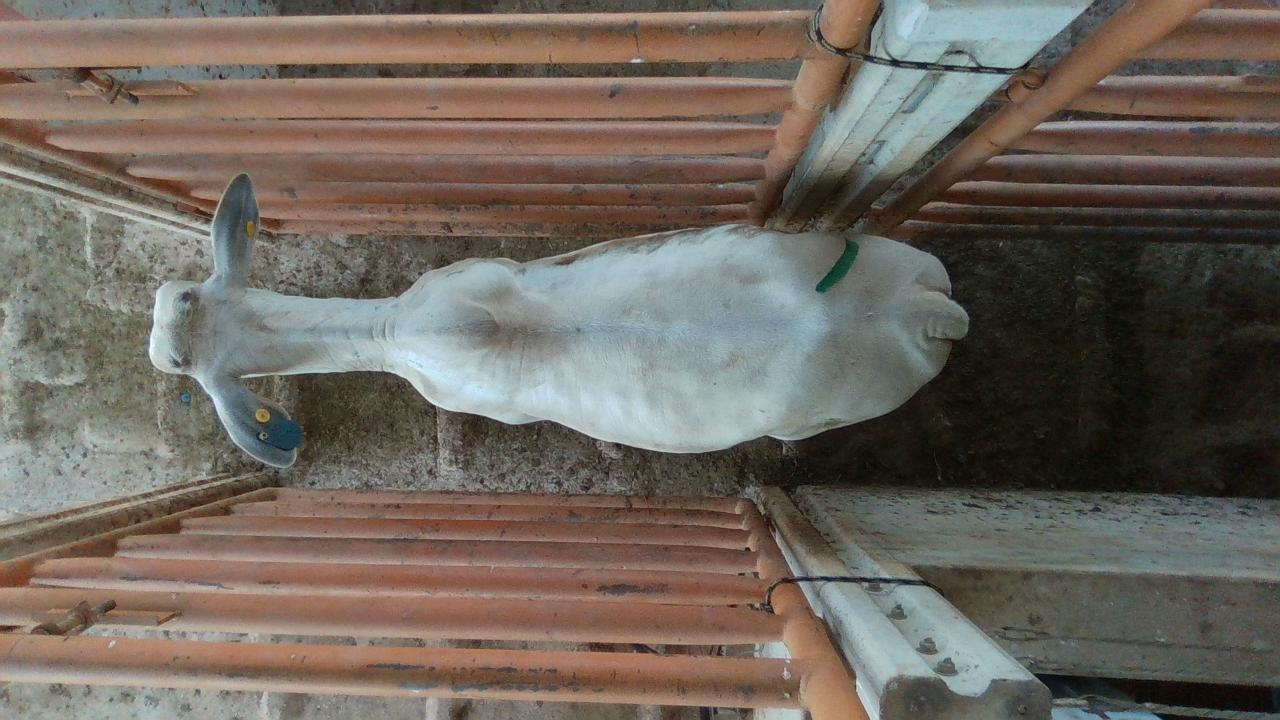cattle: (147, 171, 971, 467)
